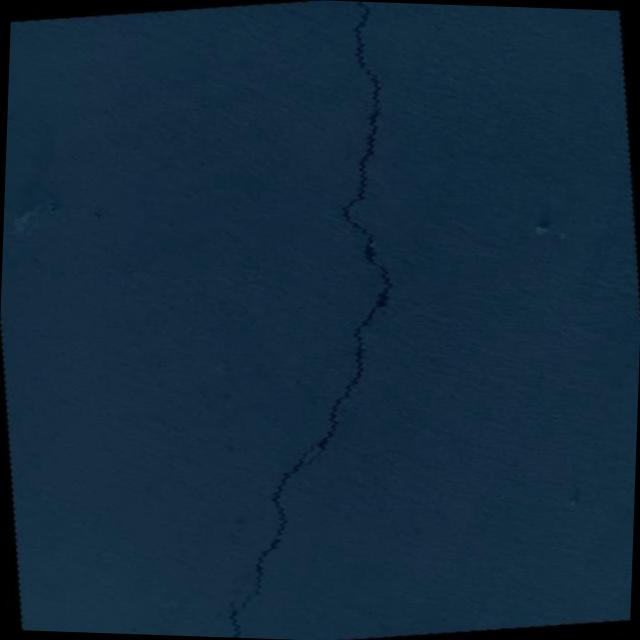crack: (164, 0, 441, 640), (231, 572, 244, 585)
